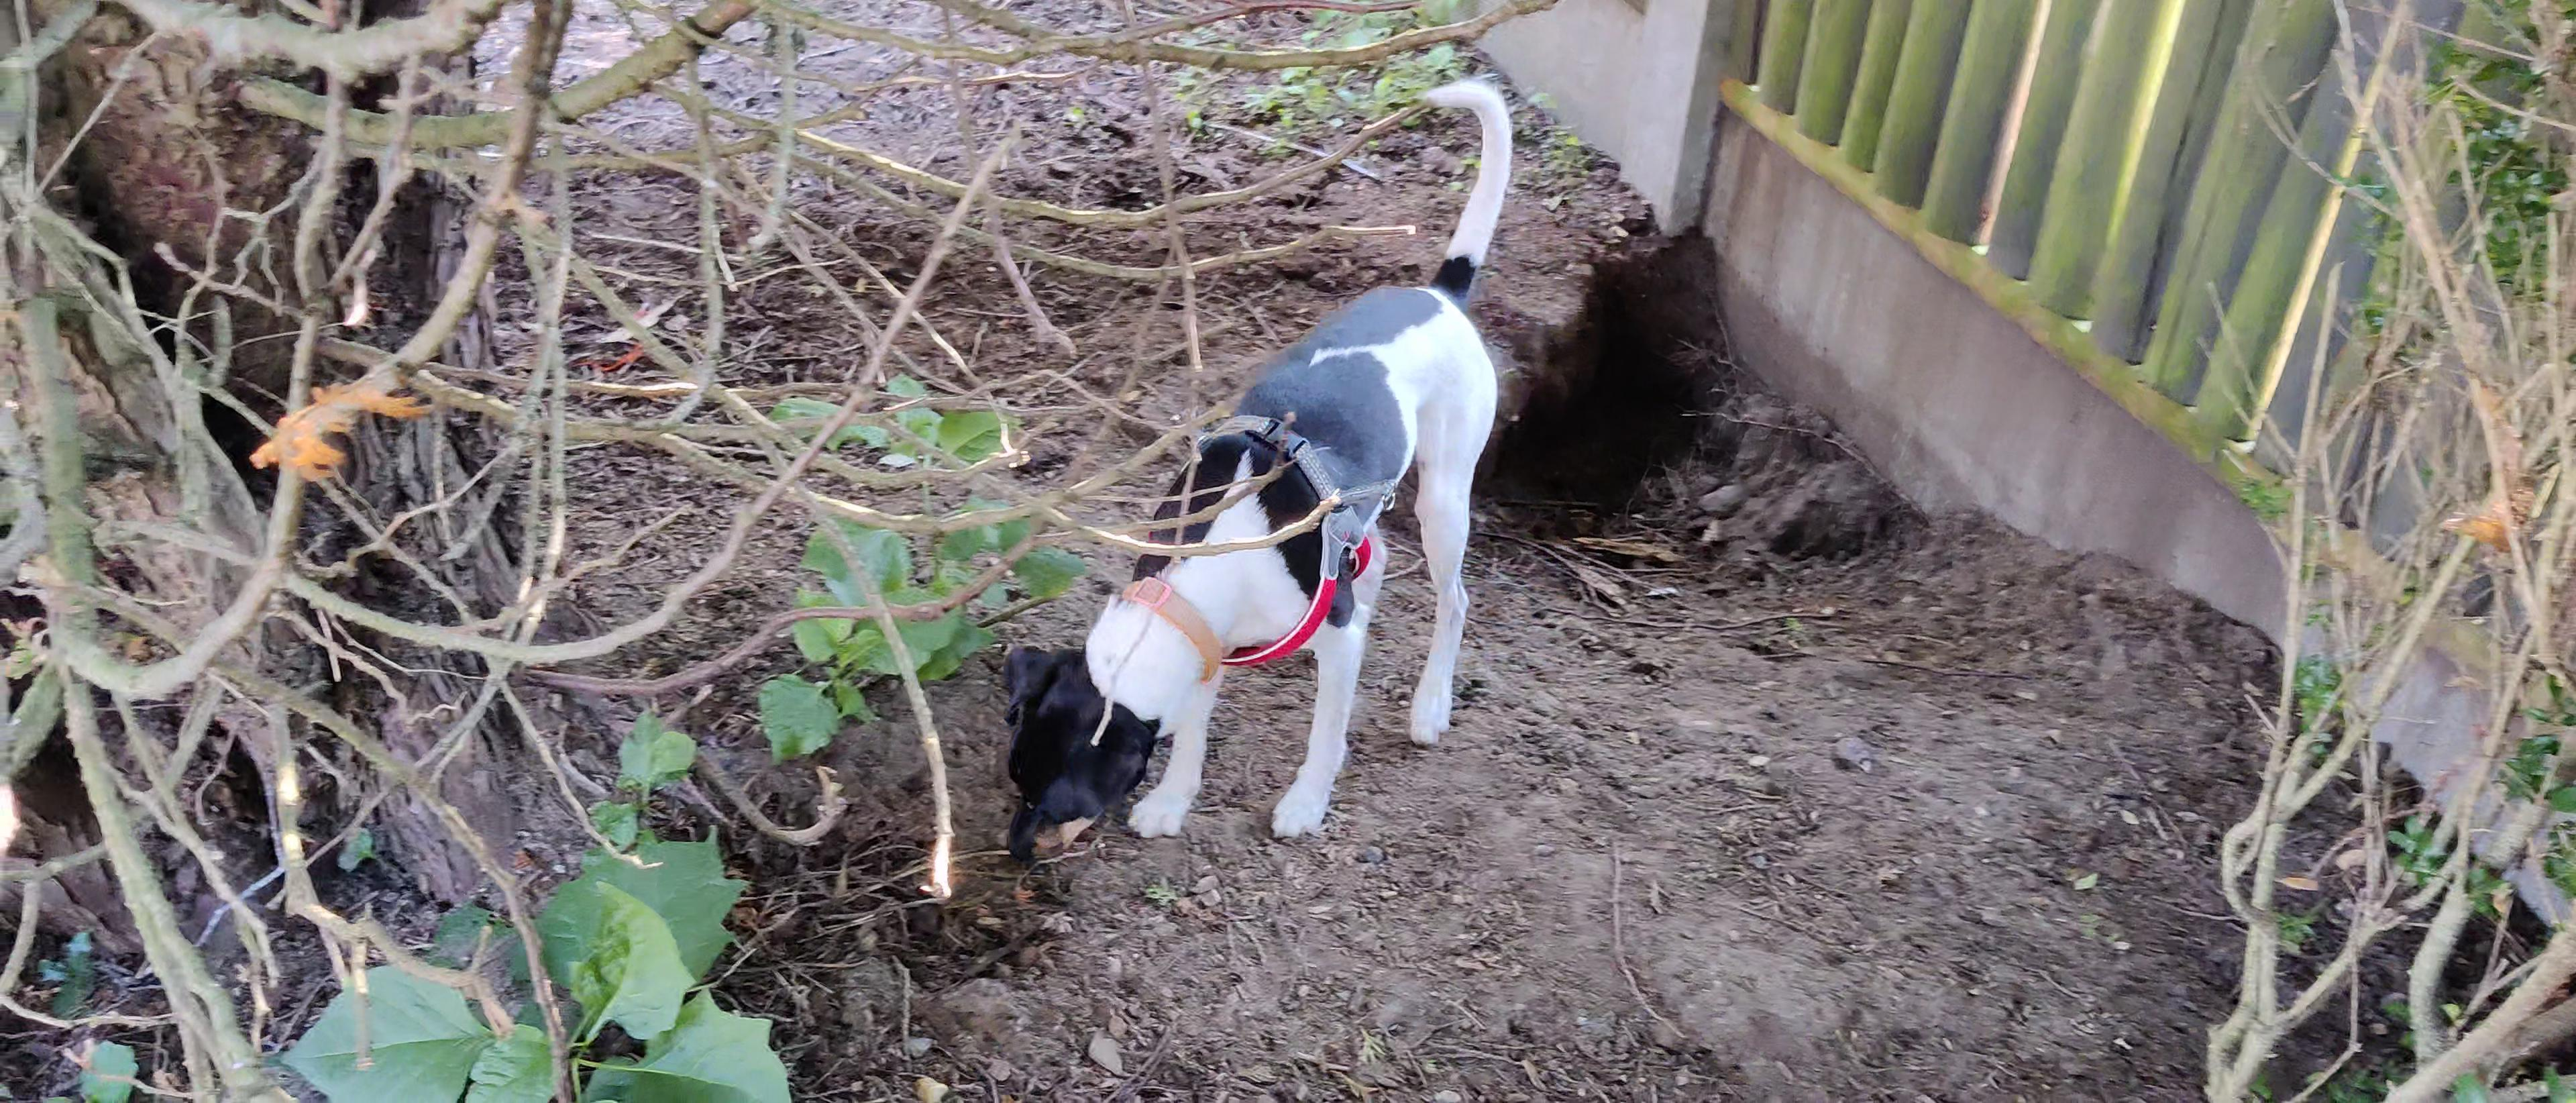Dog: (987, 62, 1534, 883)
